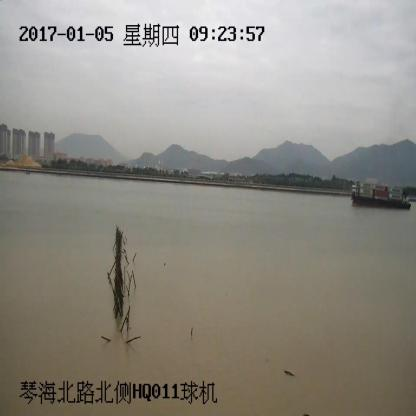Container Ship: (350, 181, 411, 211)
